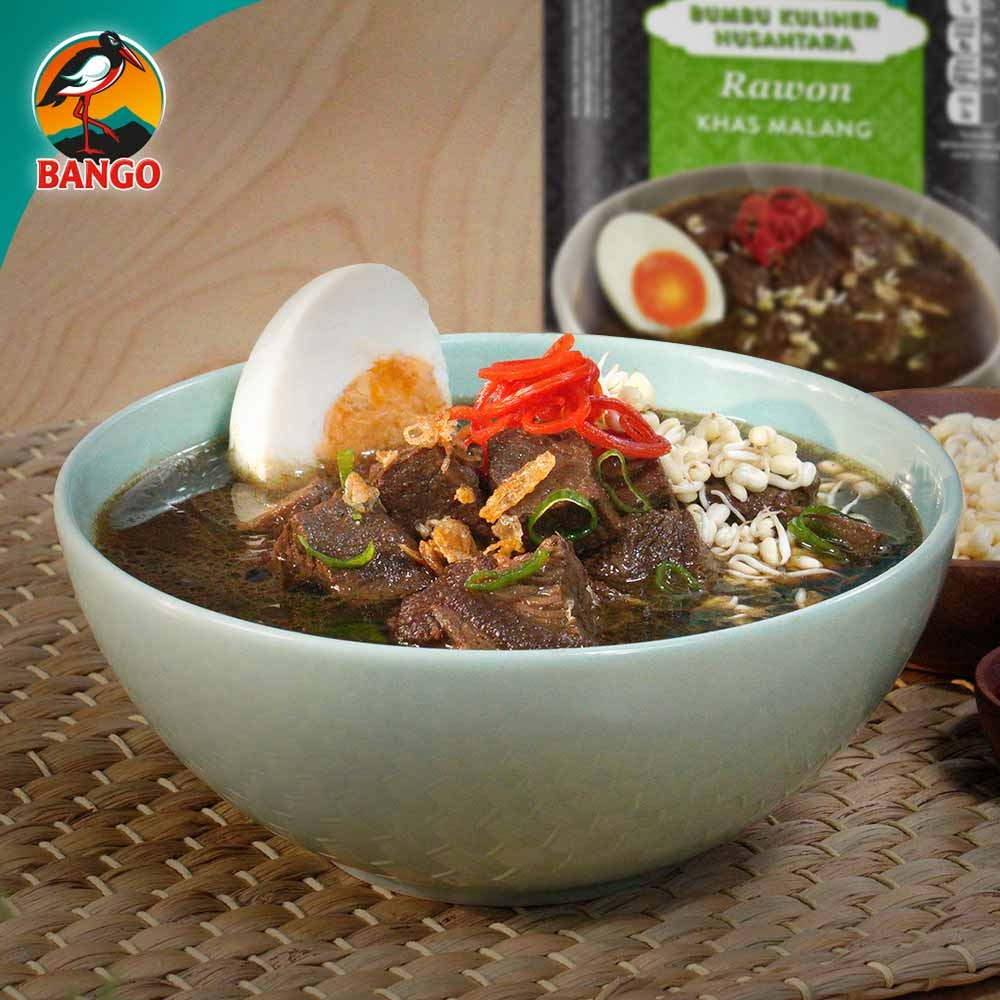rawon: (117, 285, 937, 739)
